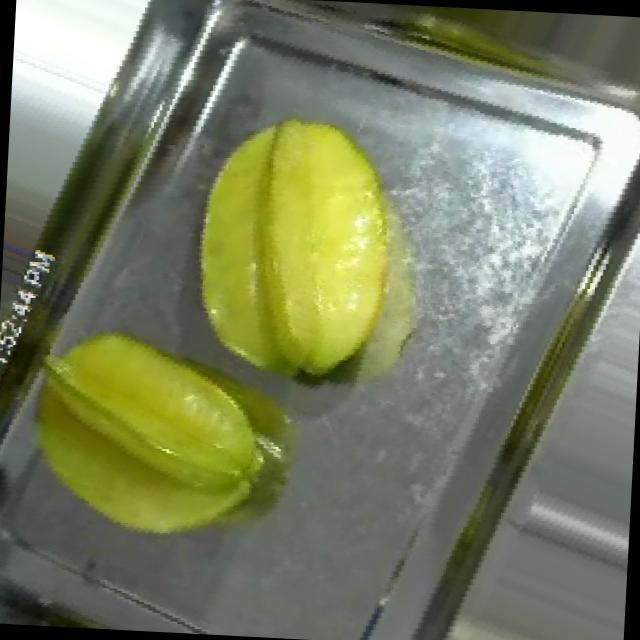fruit: (134, 72, 458, 424), (0, 281, 311, 593)
